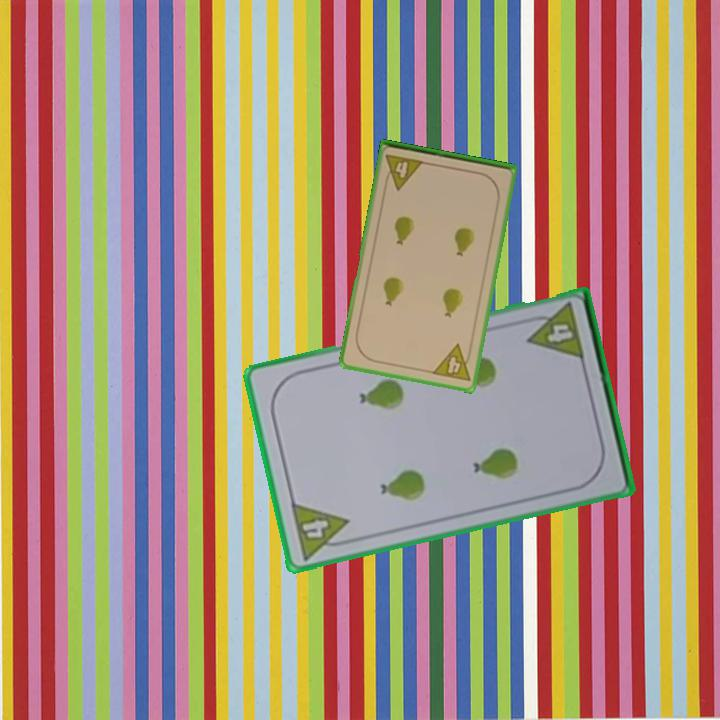4p: (287, 499, 356, 563), (520, 299, 587, 364), (429, 341, 475, 385), (381, 151, 427, 193)
